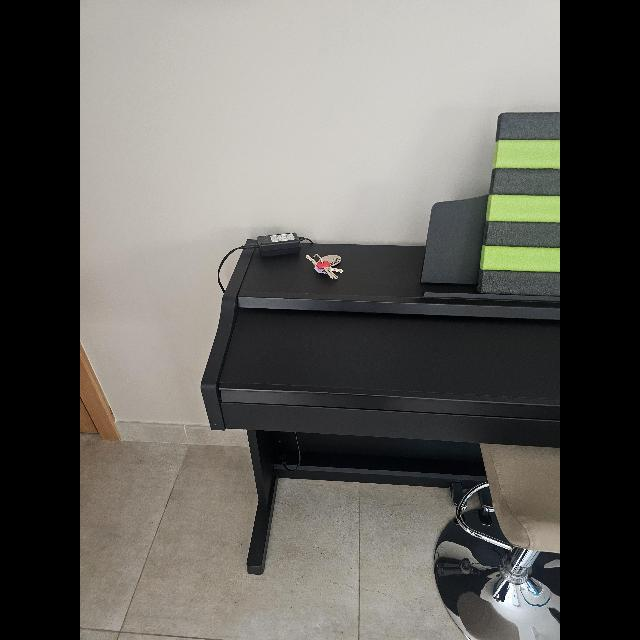Keys: (306, 254, 344, 280)
